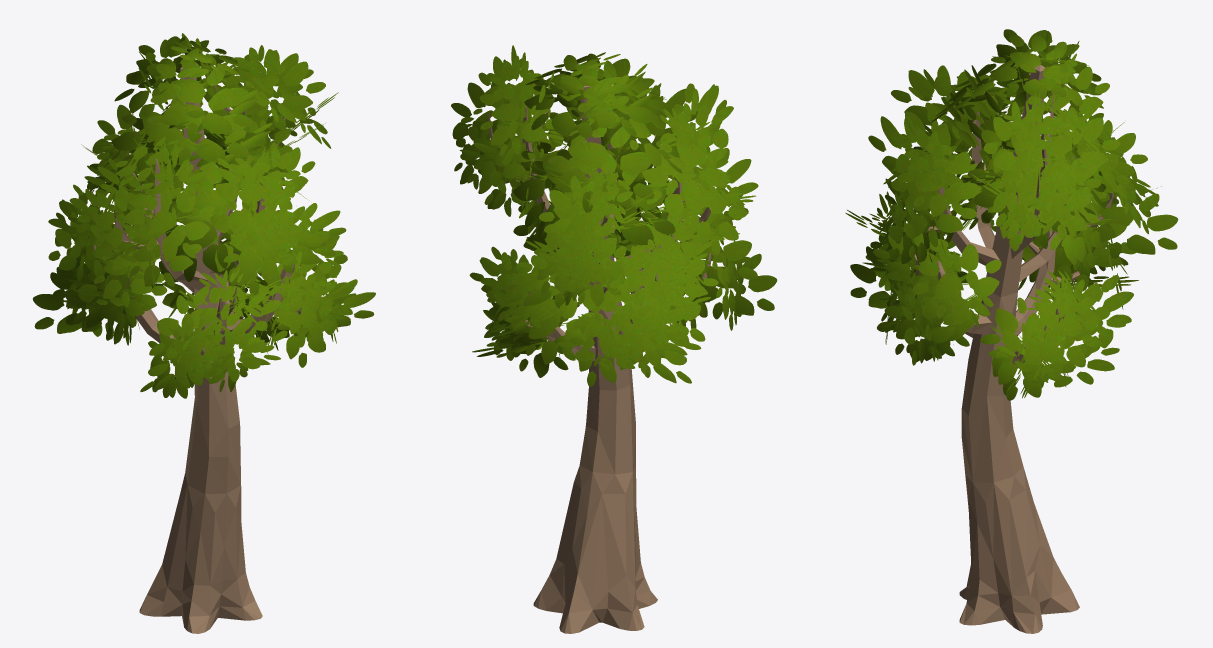
File: broadleaf-round.far.quaternius.glb
3 views of the same model, side by side, from view 1: azimuth 30°, elevation 25°; view 2: azimuth 150°, elevation 25°; view 3: azimuth 270°, elevation 25° (orthographic).
Visible parts, largest first — view 1: CommonTree_1; view 2: CommonTree_1; view 3: CommonTree_1.
Part boxes in pixels (box(x1,y1,x2,y2)): CommonTree_1: box(33, 33, 375, 633); CommonTree_1: box(451, 45, 777, 633); CommonTree_1: box(845, 29, 1178, 633).
Bounding box in the file's own units: 6.43 × 10.83 × 6.42.
Materials: 2 (1 with a texture image).
